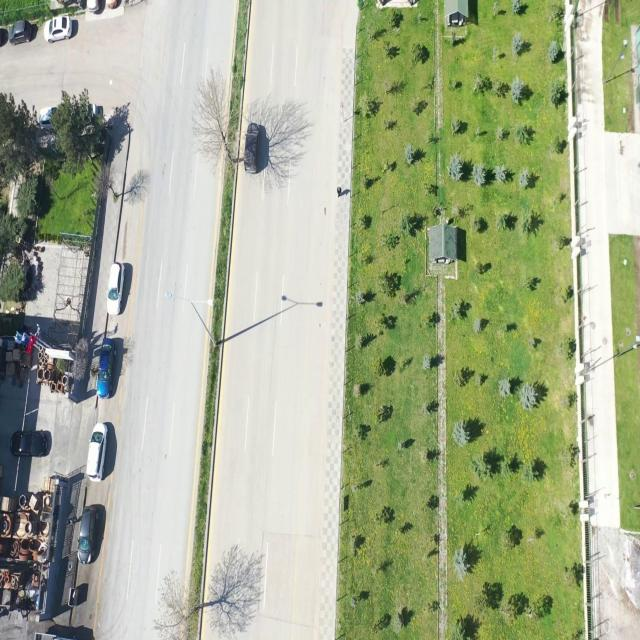p3rson: (337, 186, 342, 198)
